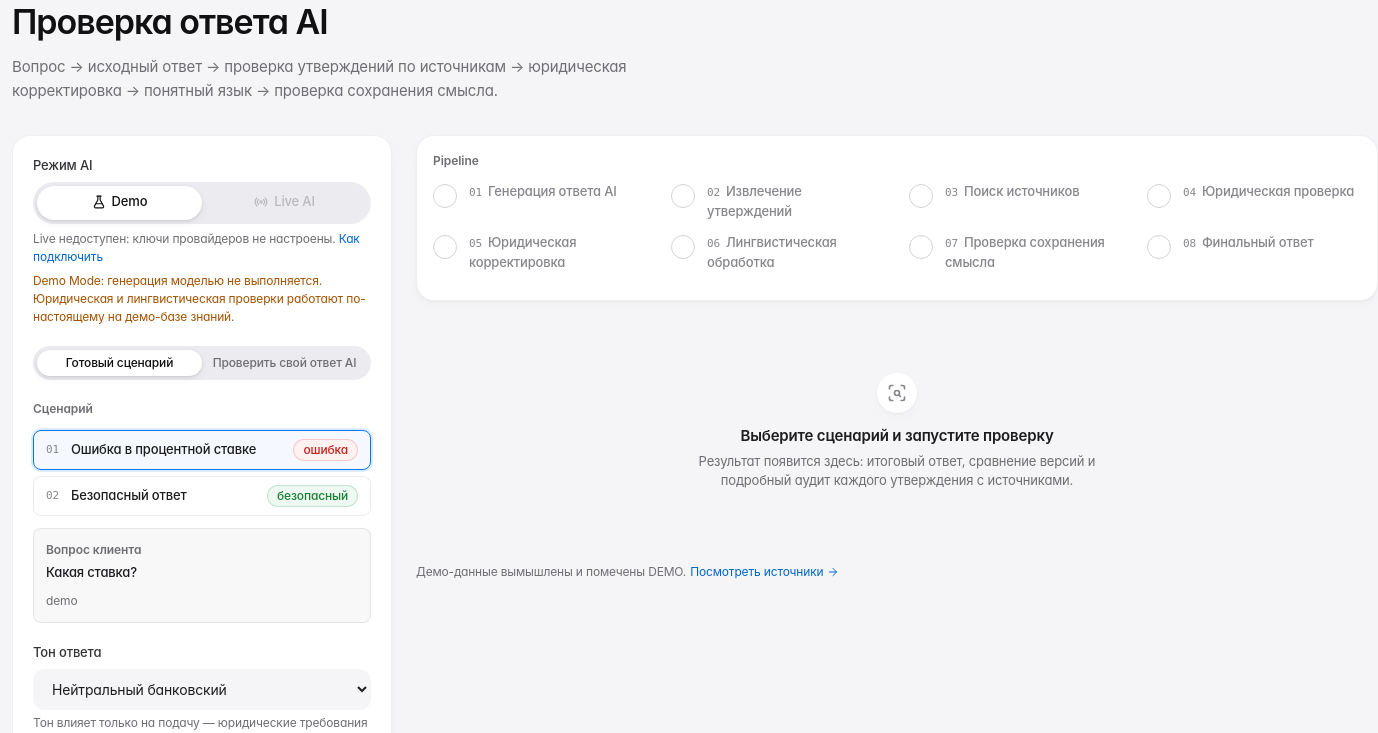
Scenario: Workspace user flow › shows API error message when processing is refused
The image size is (1378, 733).
Click the option "02 Безопасный ответ безопасный": (129, 495) [33, 476, 371, 516]
(page scrolled)
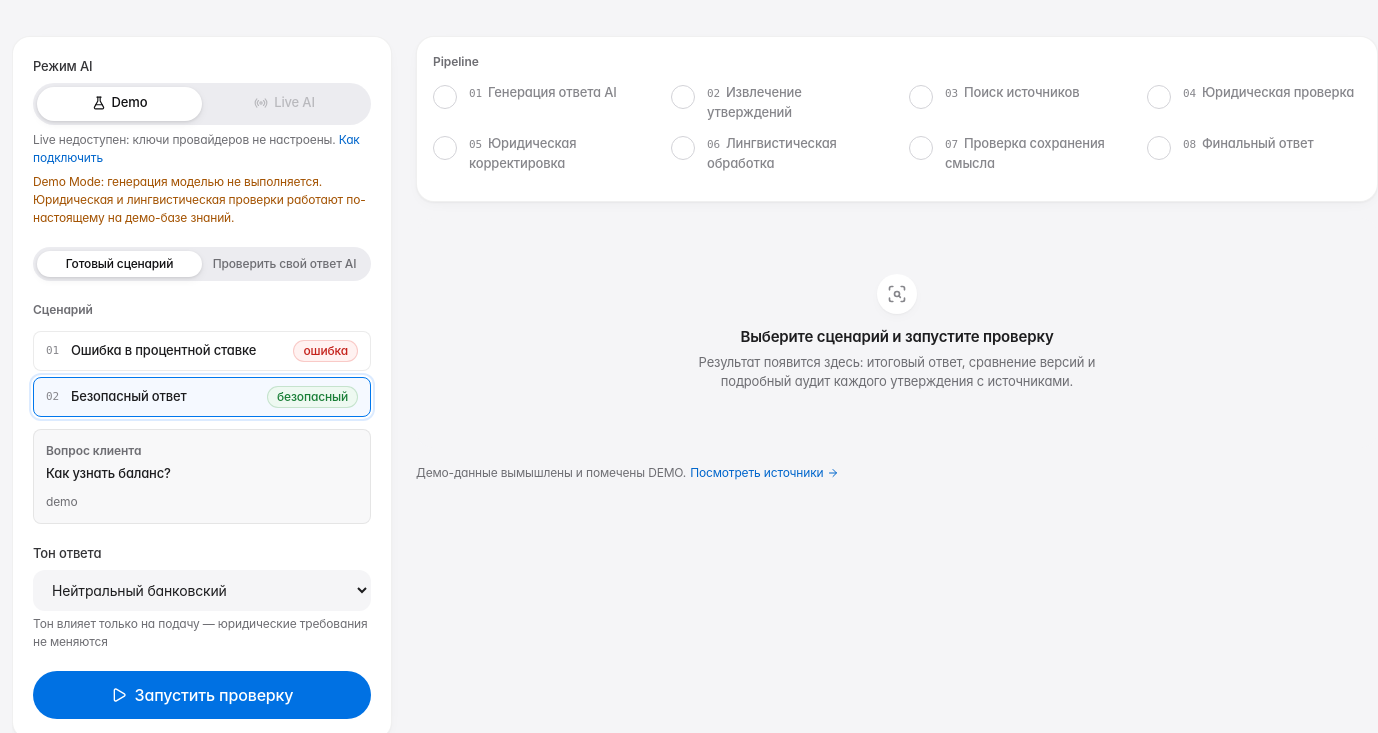
Click the button "Запустить проверку": (202, 694) [33, 670, 371, 718]
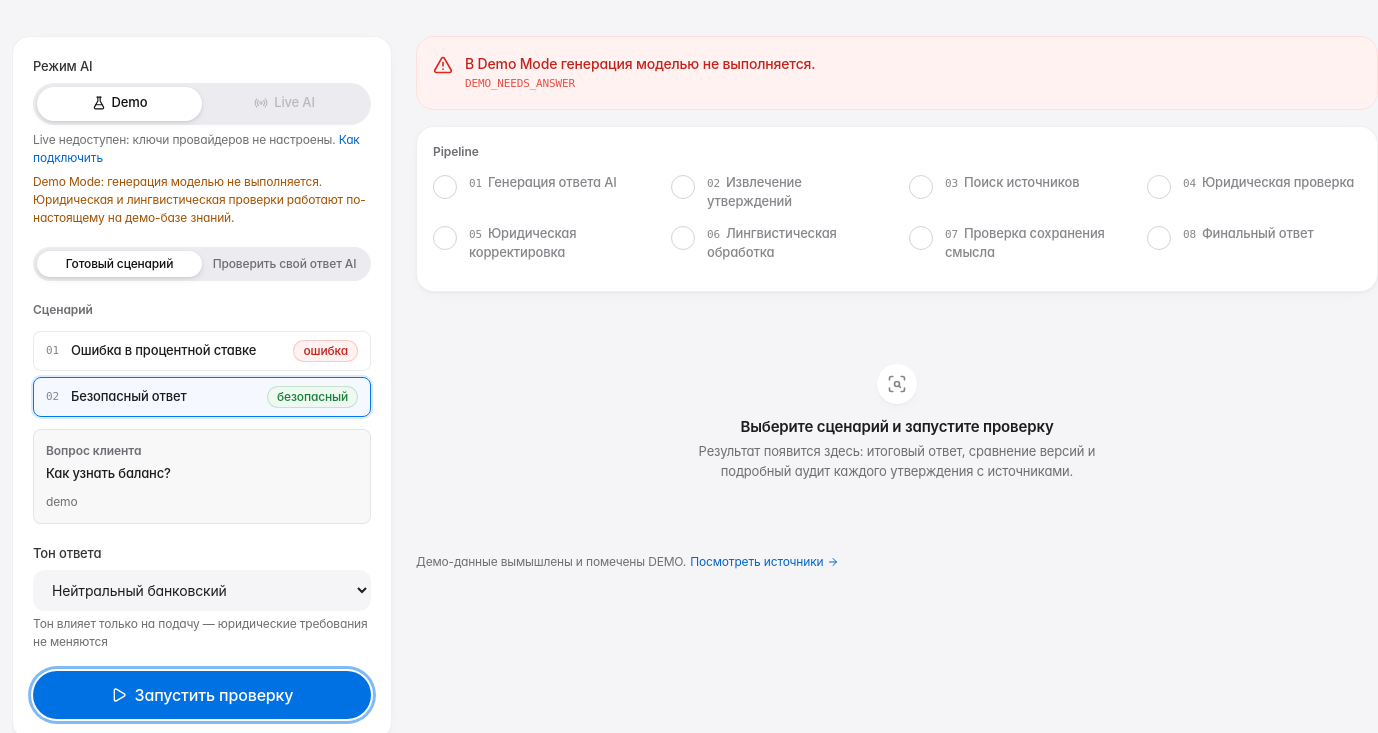
Check: the message shows "В Demo Mode генерация моделью не выполняется.", box [465, 55, 815, 72]
